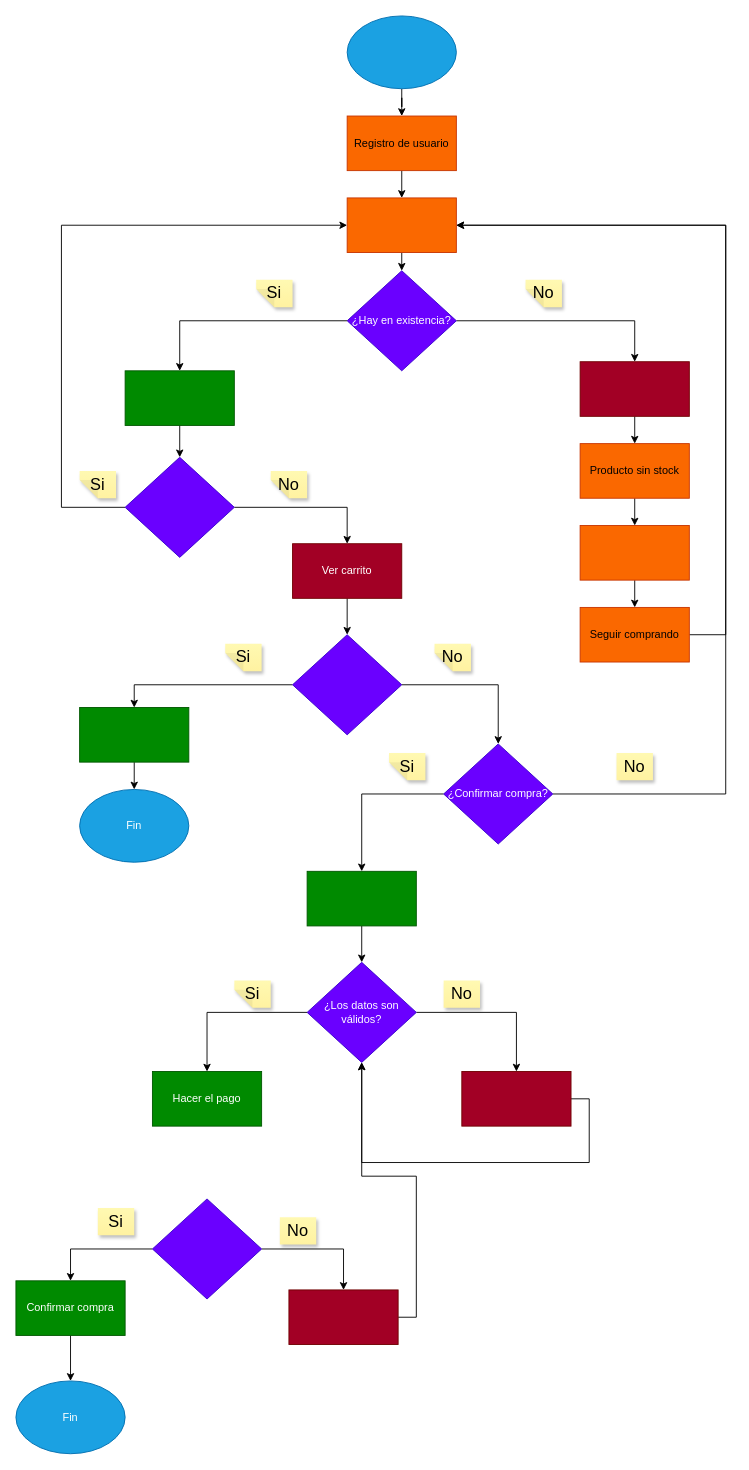
Image size: 749x1470. Some labels were removed from this diagram. The shapes that lost their labels are listed below. From the top down, each one's centre as x and y in pixels, then its label:
At (x=401, y=52): "Inicio".
At (x=401, y=225): "Buscar en el catálogo de productos".
At (x=179, y=397): "Agregar al carrito".
At (x=634, y=388): "Crear notificación al administrador".
At (x=179, y=506): "¿Se agrega al carro?".
At (x=634, y=552): "Notificar al cliente".
At (x=347, y=684): "¿Carrito vacío?".
At (x=134, y=734): "Mostrar carrito vacío".
At (x=361, y=898): "Ingresar datos de la tarjeta".
At (x=516, y=1098): "Mostrar error en datos".
At (x=207, y=1248): "¿Pago correcto?".
At (x=343, y=1317): "Pago rechazado".
